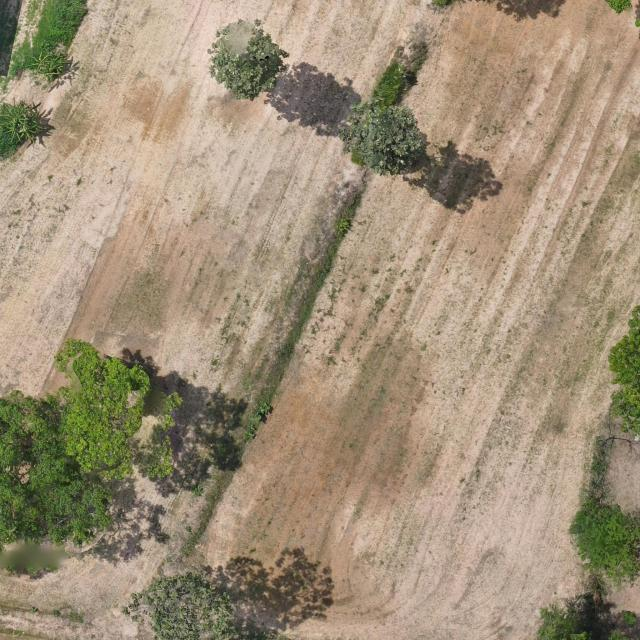Tree: (0, 390, 115, 581), (51, 333, 182, 476), (119, 568, 240, 640), (337, 100, 429, 179), (206, 18, 292, 102)
